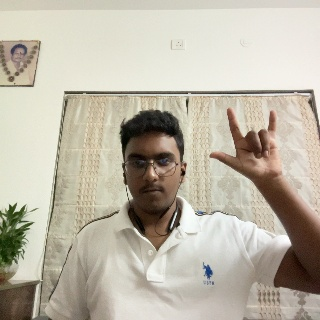Face: (119, 114, 187, 219)
I Love You: (209, 103, 287, 195)
